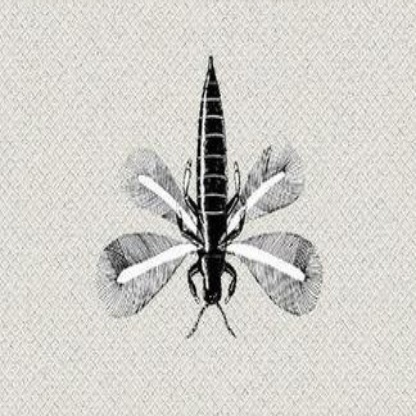Thrips: (97, 65, 325, 331)
